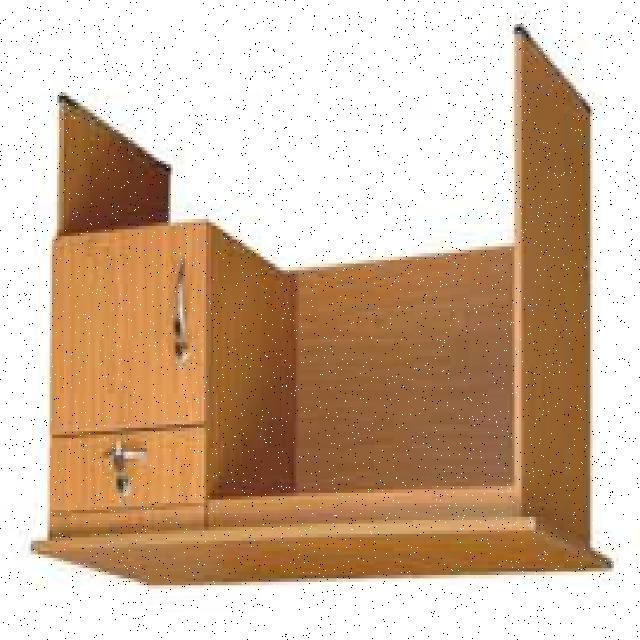mobile-phone: (28, 27, 618, 590)
